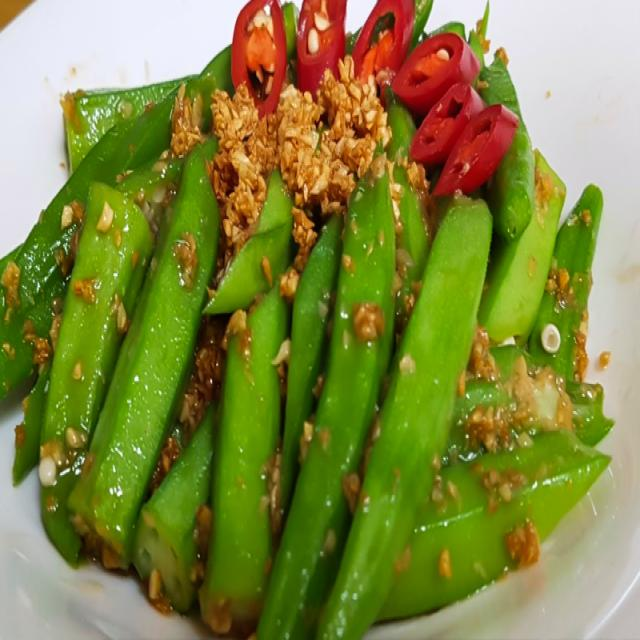dau bap: (40, 0, 610, 639)
ot: (351, 0, 518, 195), (231, 0, 286, 117), (297, 0, 346, 95)
